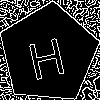H: (23, 28, 68, 81)
